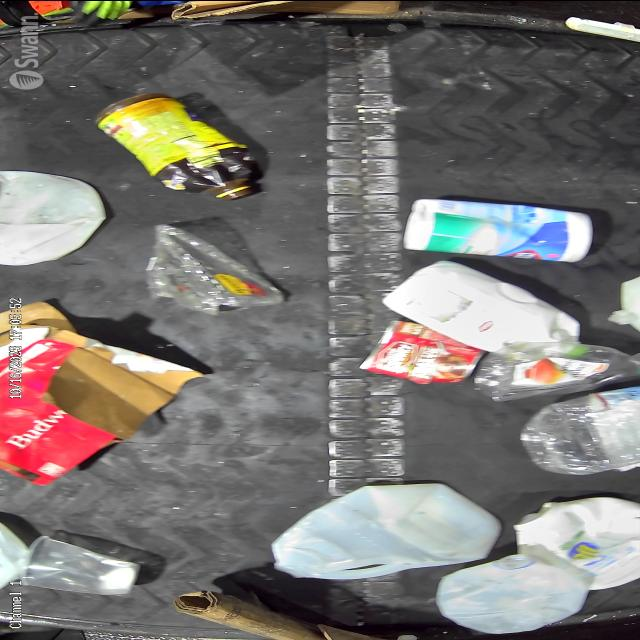can: (354, 323, 472, 389)
milk_jug: (261, 482, 491, 582), (384, 259, 572, 363), (433, 554, 584, 636), (0, 173, 114, 263)
plastic_bottle: (145, 227, 269, 314), (522, 385, 640, 476), (465, 341, 640, 398), (12, 538, 142, 592)
